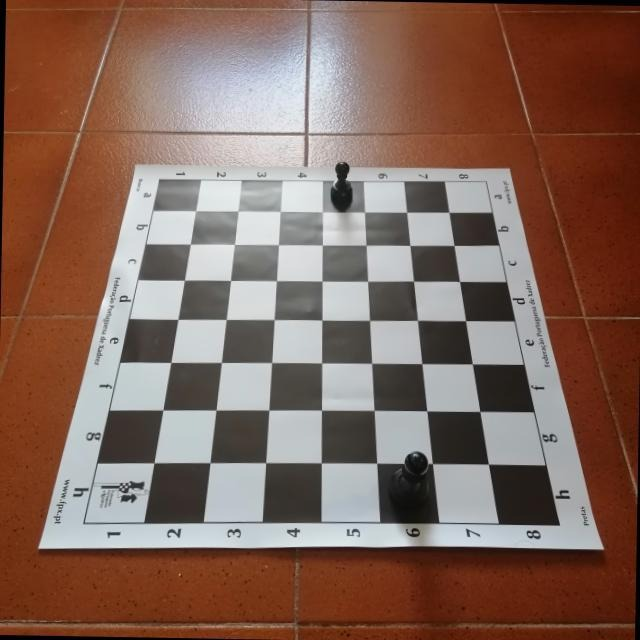black-bishop: (387, 449, 429, 507)
black-pawn: (329, 160, 354, 206)
